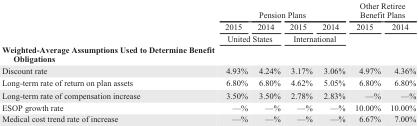table: (1, 0, 415, 123)
table column: (1, 0, 181, 123), (181, 0, 251, 123), (349, 0, 384, 123), (251, 0, 284, 123), (316, 0, 349, 123), (284, 0, 316, 123), (384, 0, 415, 123)
table column header: (1, 0, 415, 43)
table projected row header: (1, 43, 415, 63)
table row: (1, 43, 415, 63), (1, 0, 415, 19), (1, 75, 415, 88), (1, 19, 415, 31), (1, 31, 415, 43), (1, 63, 415, 75), (1, 88, 415, 100), (1, 100, 415, 112), (1, 112, 415, 123)
table spanning cell: (181, 0, 349, 19), (349, 0, 415, 19), (181, 31, 284, 43), (349, 19, 384, 43), (284, 31, 349, 43), (384, 19, 415, 43)
